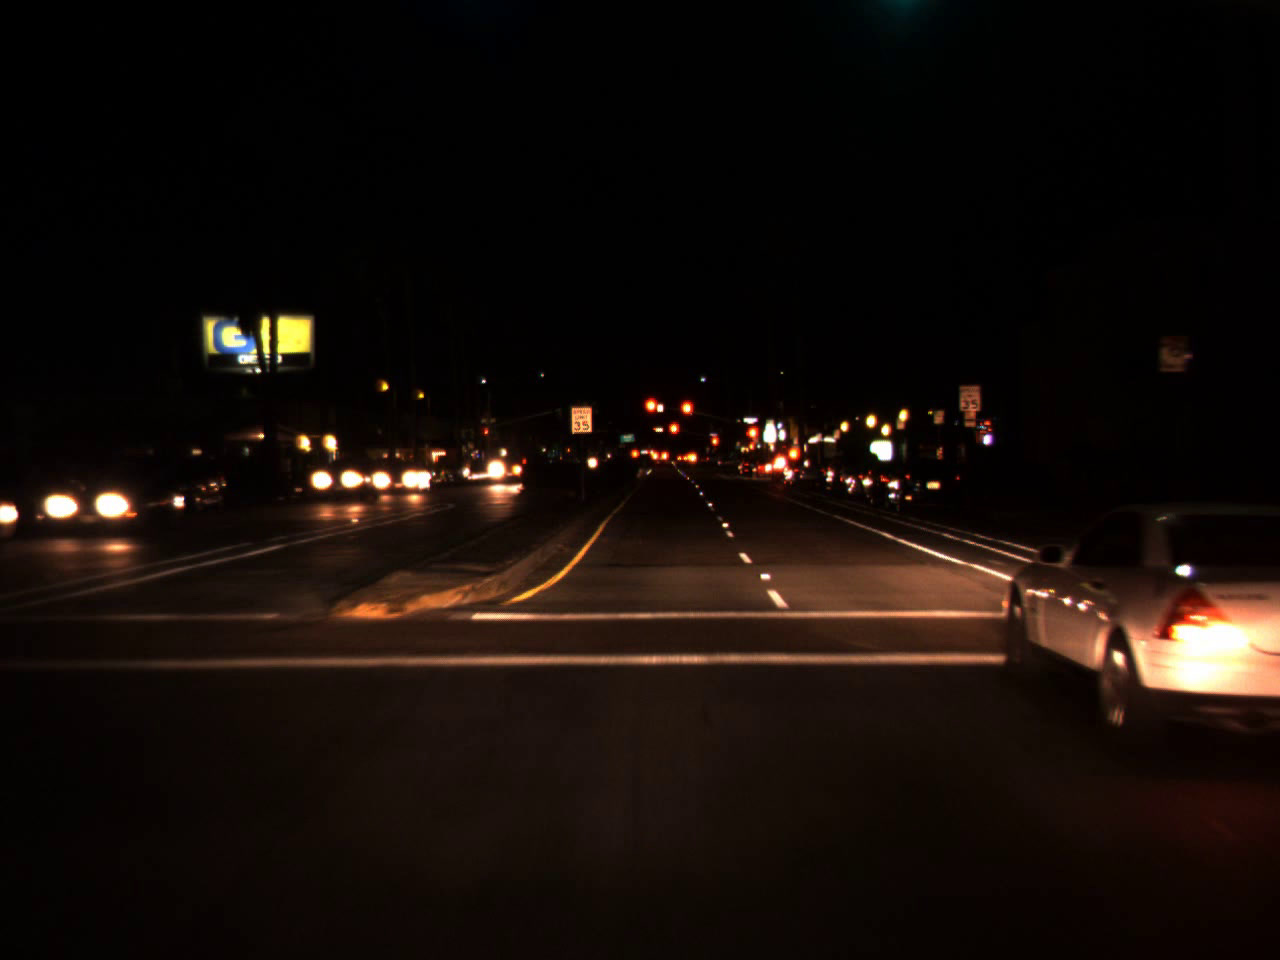stop: (643, 395, 661, 430), (743, 423, 761, 458), (679, 399, 694, 431), (667, 421, 680, 448), (710, 433, 720, 460), (483, 429, 489, 439)
